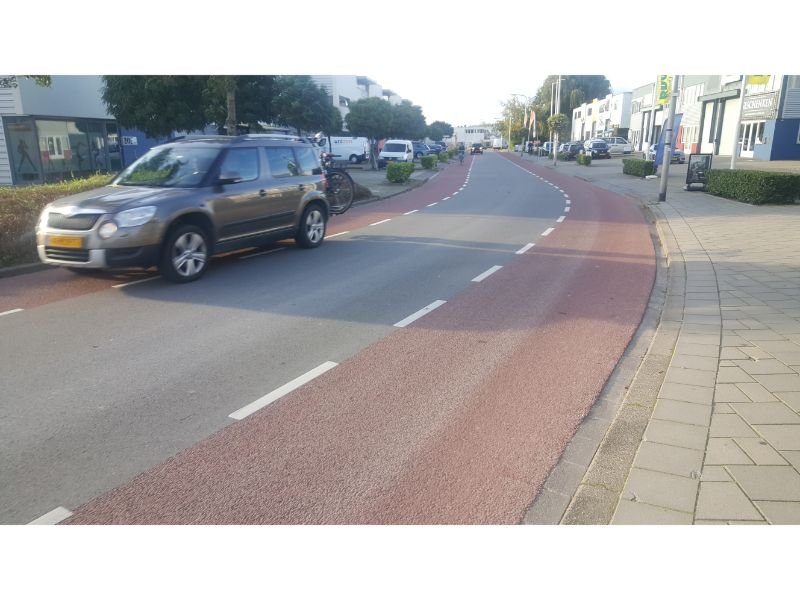kenteken: (46, 234, 89, 253)
